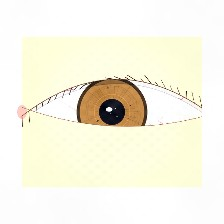pterygium_lesion: (144, 88, 203, 136)
